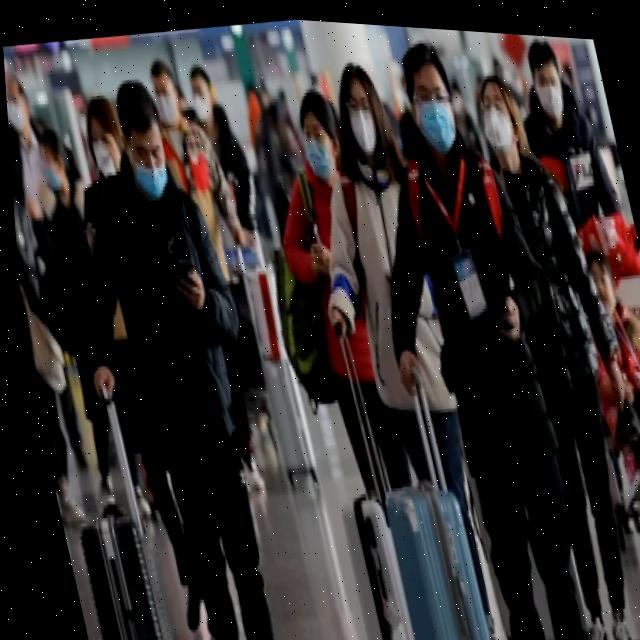Mask: (407, 86, 458, 148), (123, 147, 171, 200), (341, 97, 384, 151), (478, 95, 518, 147), (533, 73, 568, 114), (89, 139, 119, 182), (304, 133, 334, 173), (187, 86, 217, 125), (151, 88, 180, 126), (5, 96, 30, 133), (39, 161, 66, 193)
